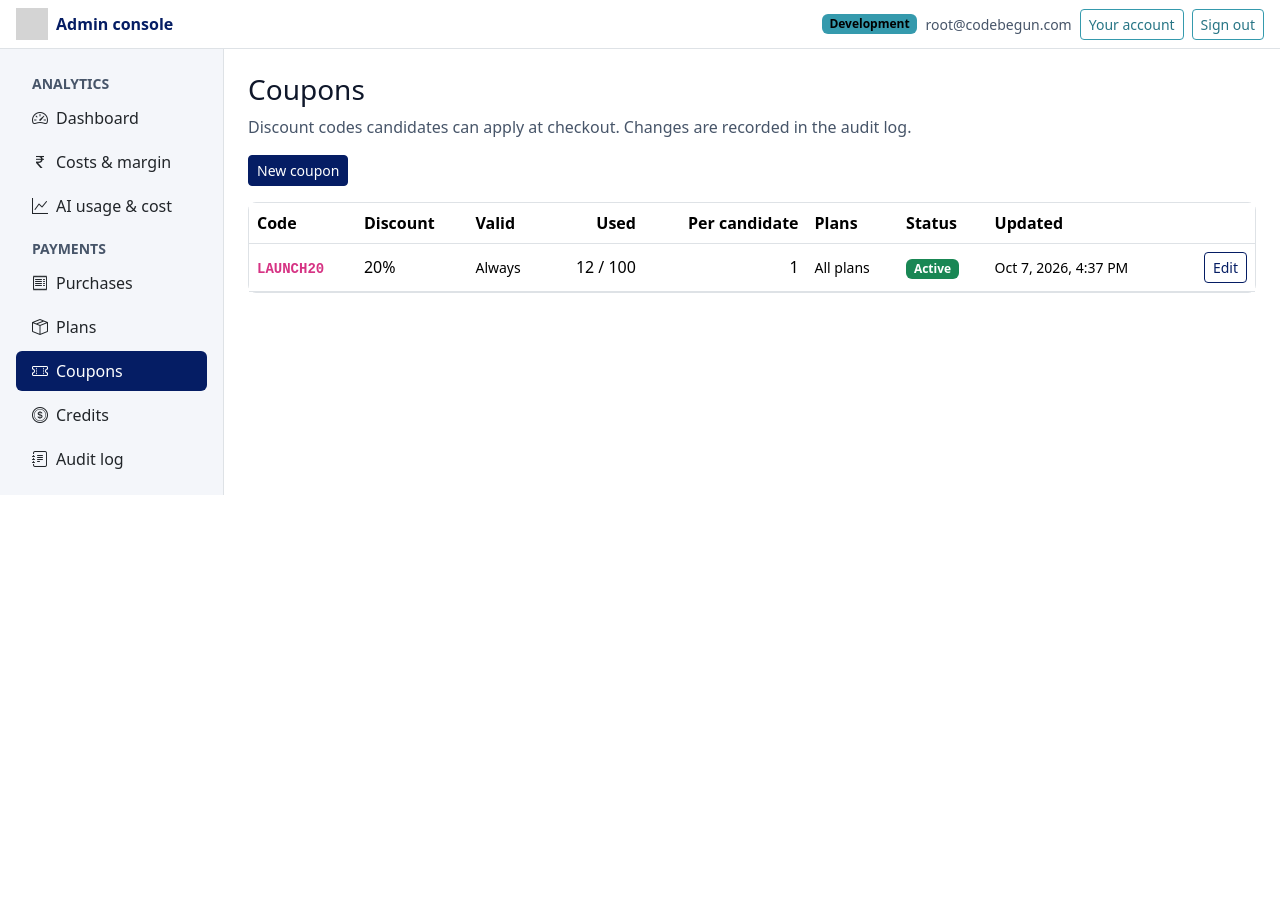
Scenario: coupons › edits a coupon without changing its code
Click the button with aria-label "Edit LAUNCH20" at [1225, 267], box x1=1204 y1=252 x2=1247 y2=283
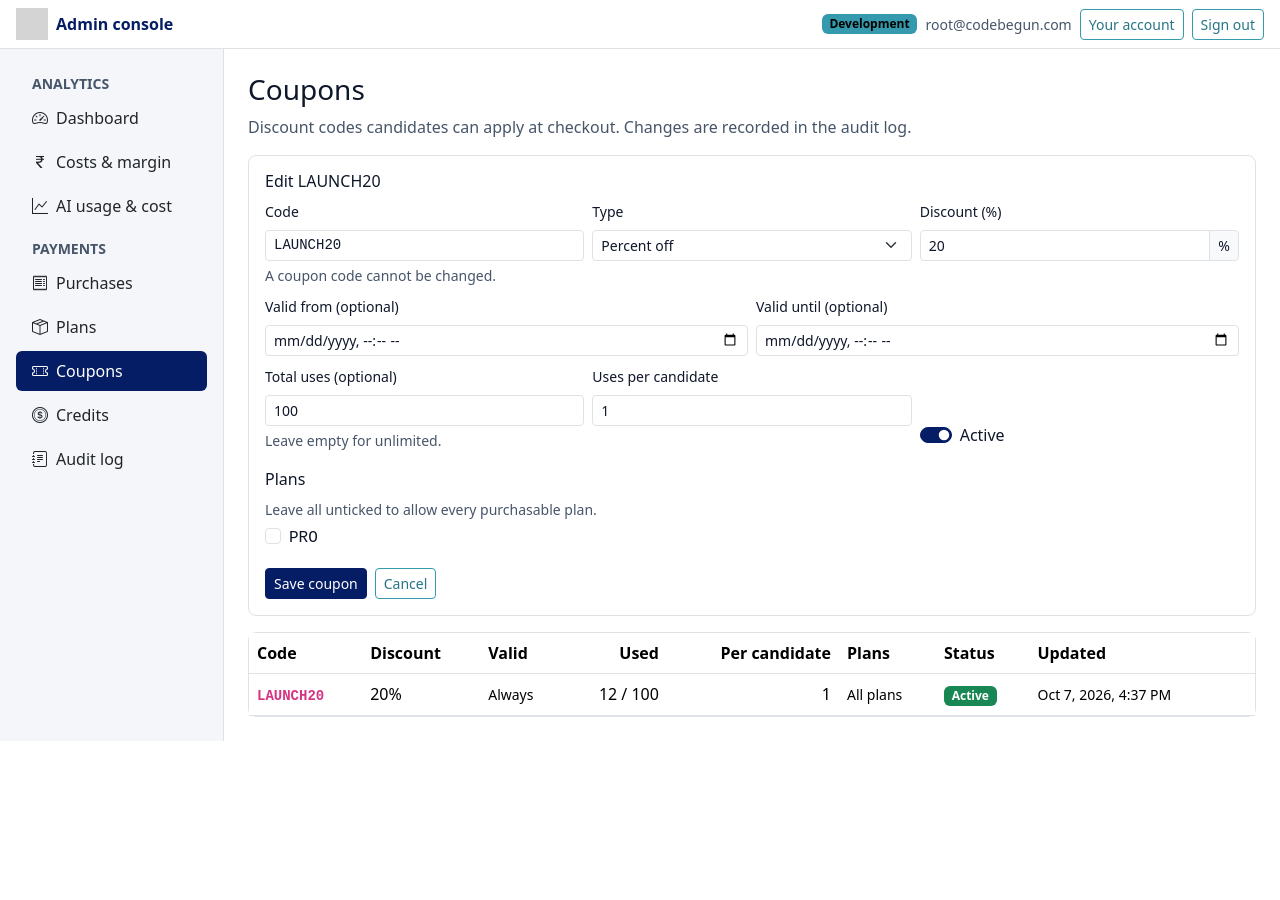
Replace the text in the field labelled "Discount (%)" with "25" at [1065, 245], box x1=920 y1=230 x2=1210 y2=261
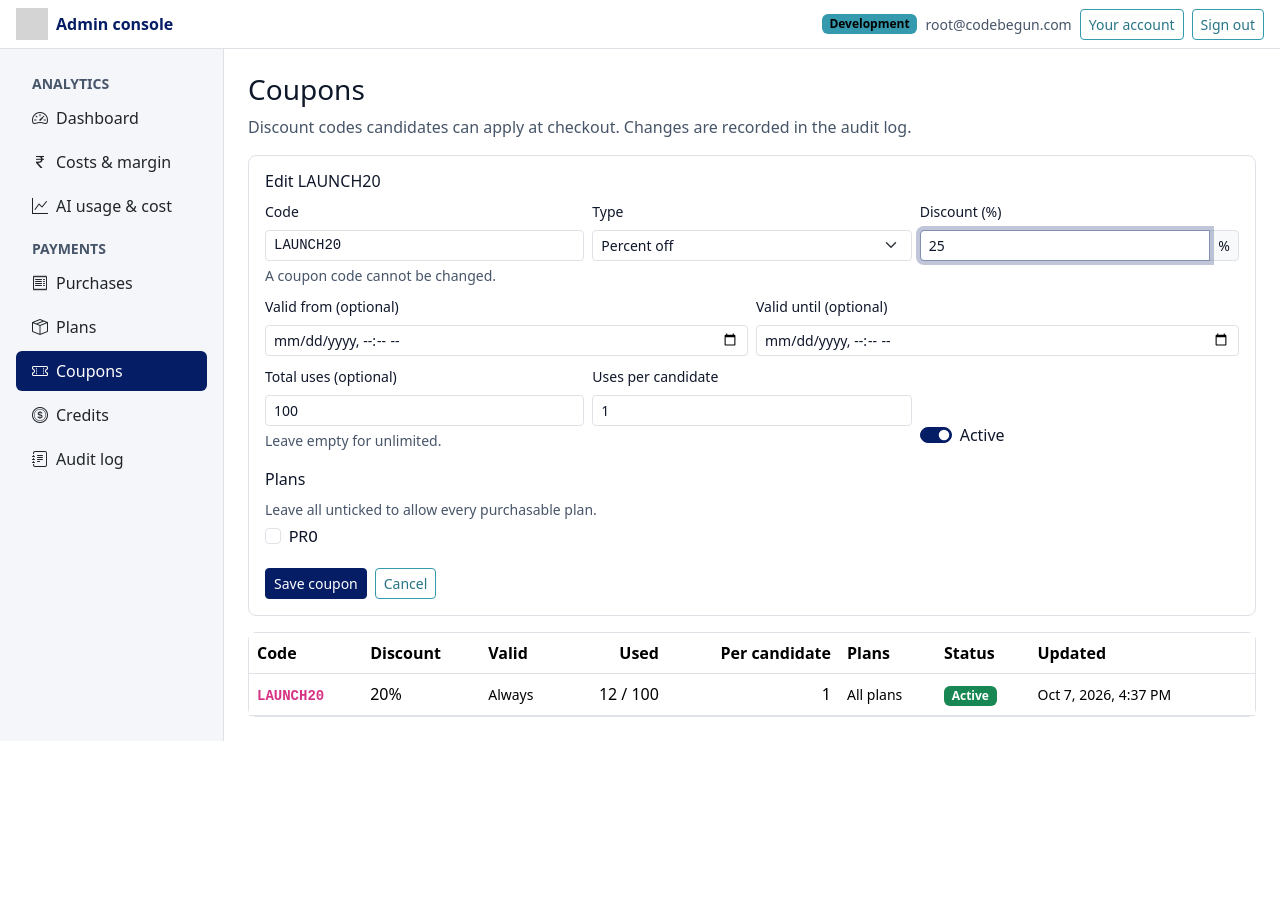
Click the button "Save coupon" at [316, 583], box x1=265 y1=568 x2=367 y2=599
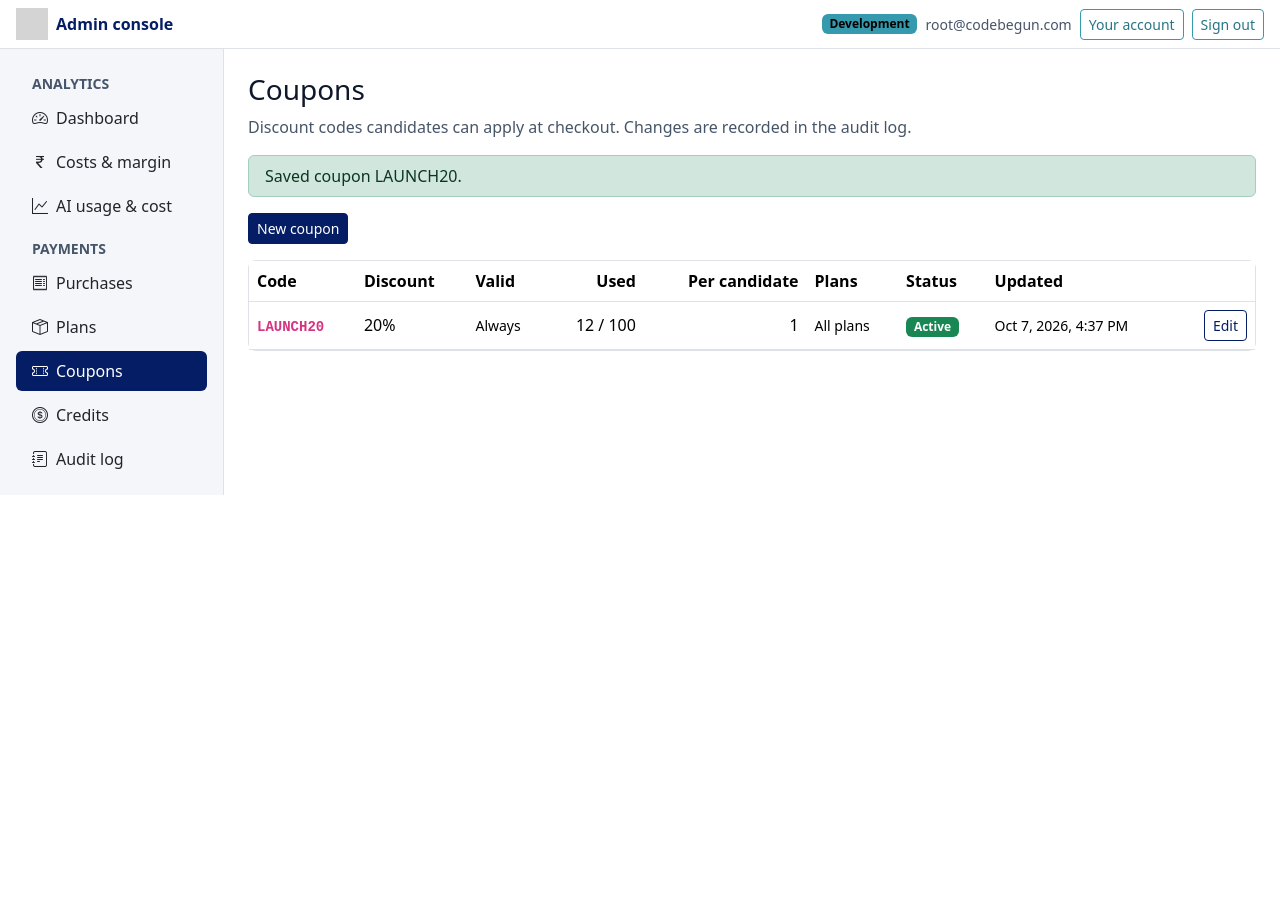
Check: the text "Saved coupon LAUNCH20." is shown, box x1=248 y1=155 x2=1256 y2=197
